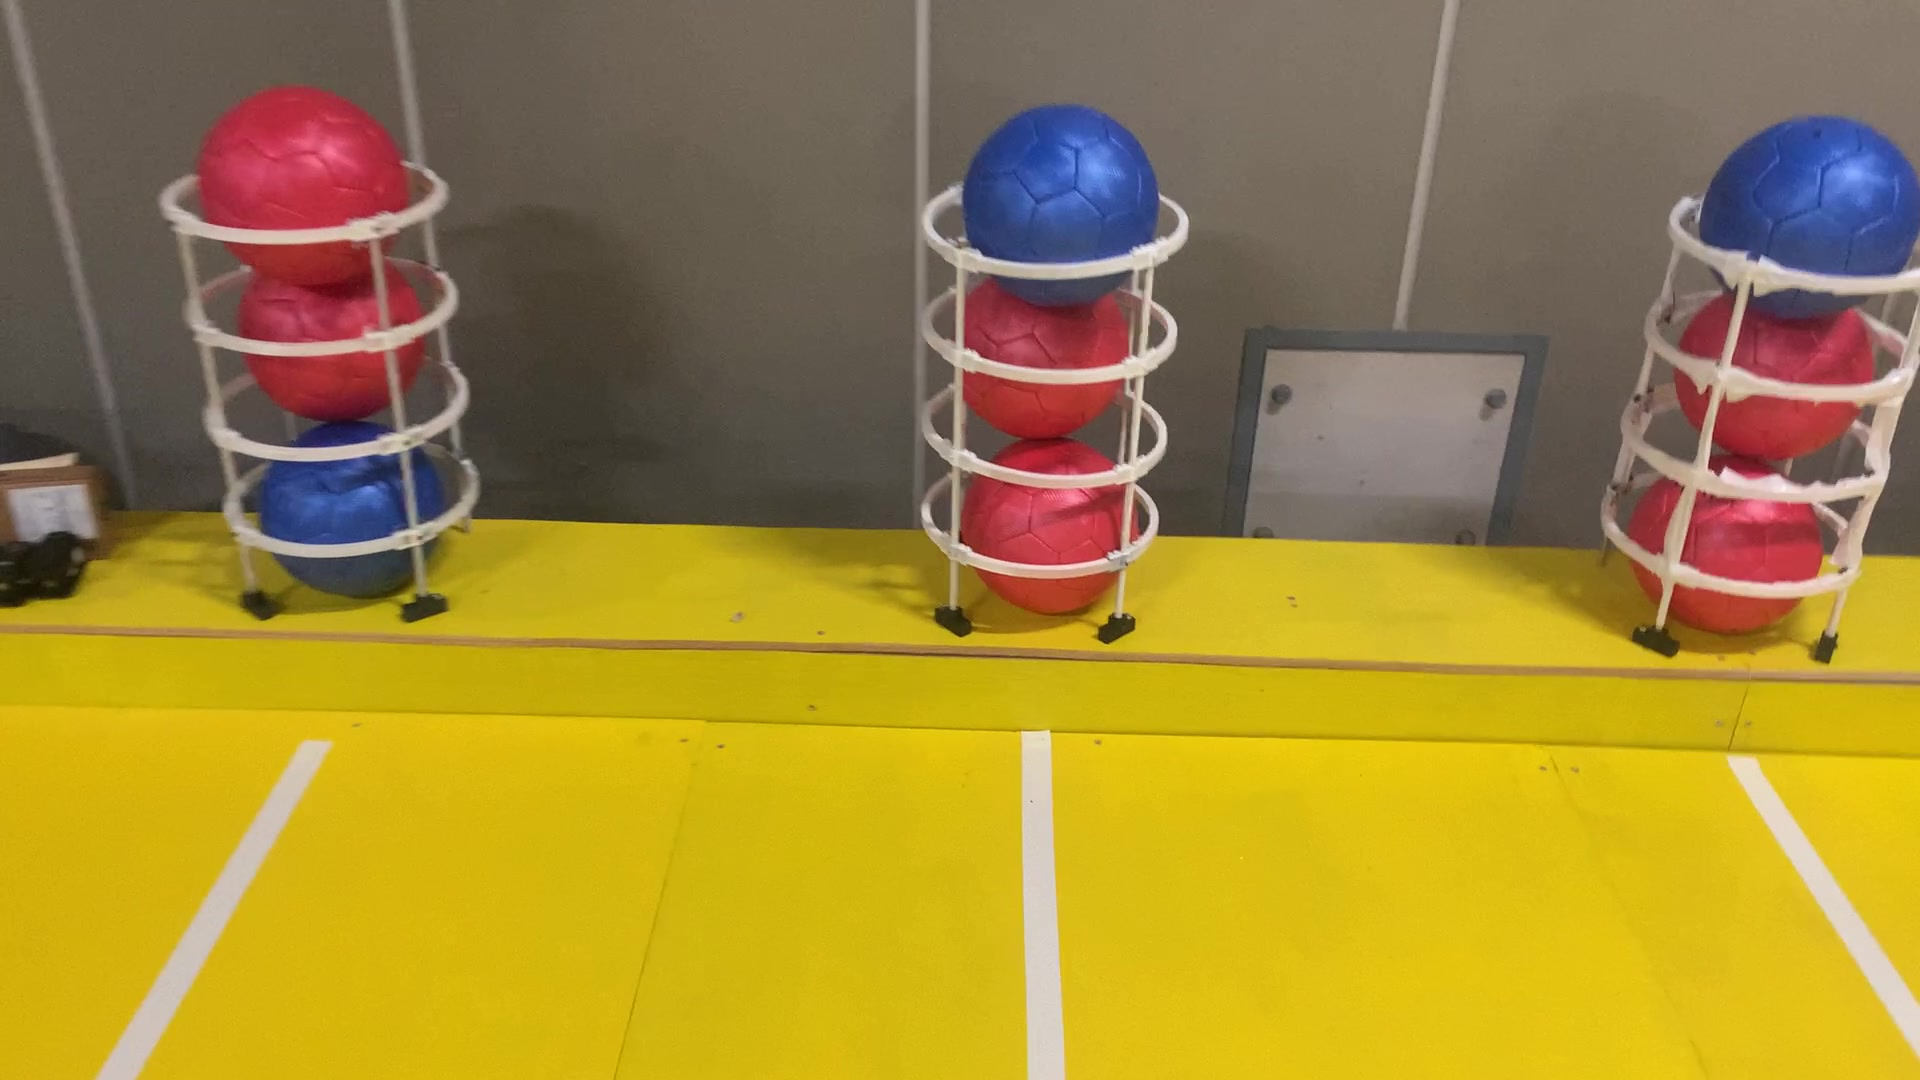blue: (1706, 109, 1917, 323), (969, 98, 1163, 295), (261, 417, 451, 609)
red: (195, 82, 407, 285), (1672, 277, 1873, 471), (953, 430, 1145, 617), (235, 244, 430, 426), (1631, 451, 1829, 630), (953, 264, 1133, 443)
